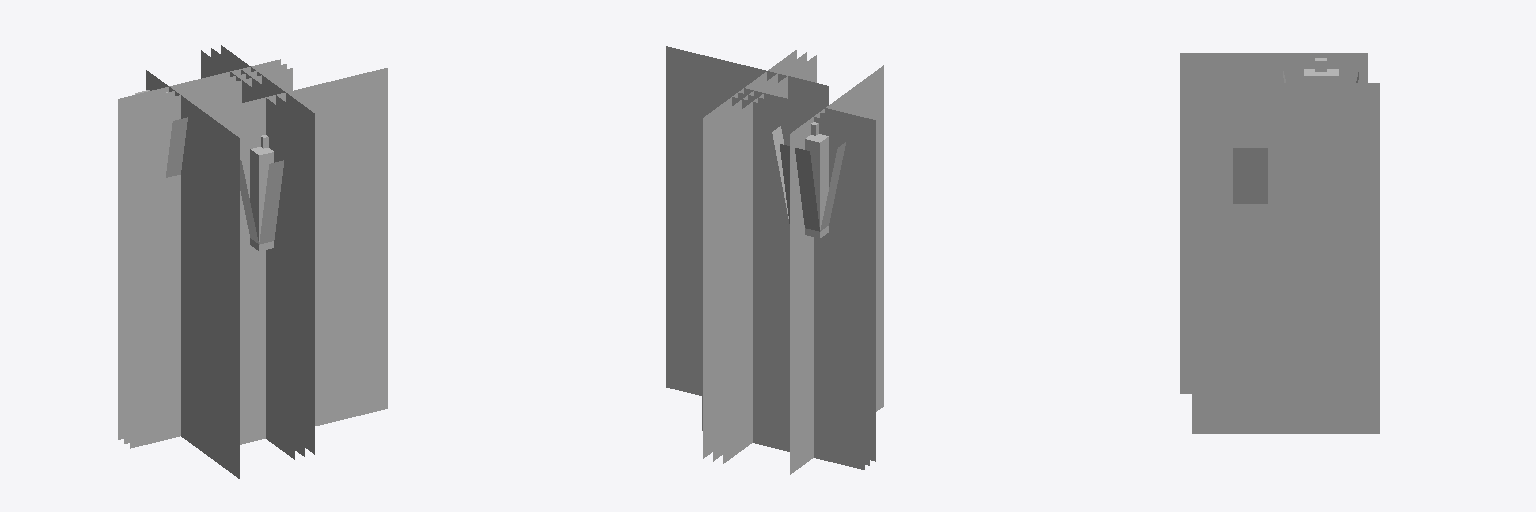
Rendered from agriculture_corn_8.obj.
3 renders of one model, left to right at view 1: azimuth 30°, elevation 25°; view 2: azimuth 150°, elevation 25°; view 3: azimuth 270°, elevation 25°, orthographic.
Visible parts, largest first — view 1: corn; view 2: corn; view 3: corn.
Part boxes in pixels (bbox=[...]): corn: bbox=[118, 45, 387, 478]; corn: bbox=[666, 46, 883, 474]; corn: bbox=[1180, 53, 1379, 433].
Bounding box in the file's own units: 1.44 × 2 × 1.06.